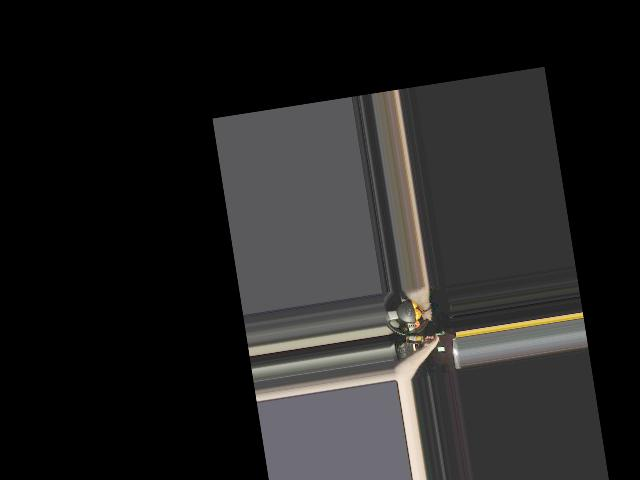beer: (405, 330, 439, 347)
